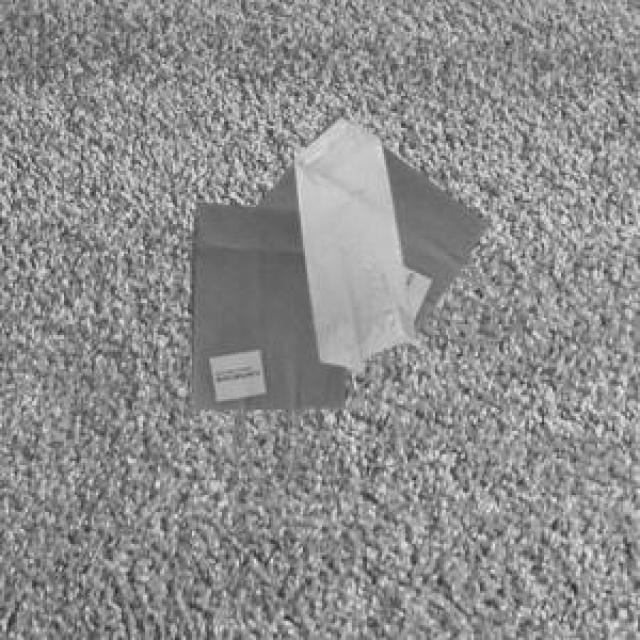paper: (252, 111, 484, 330), (188, 198, 341, 454)
